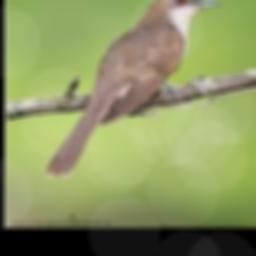Cuckoo: (46, 0, 223, 175)
